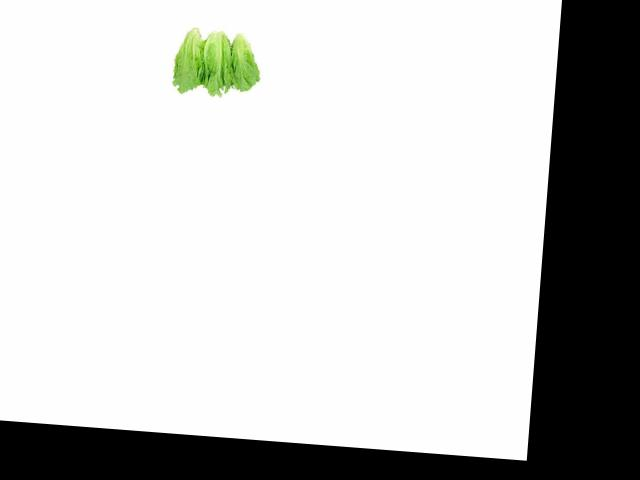lettuce: (223, 17, 264, 95)
